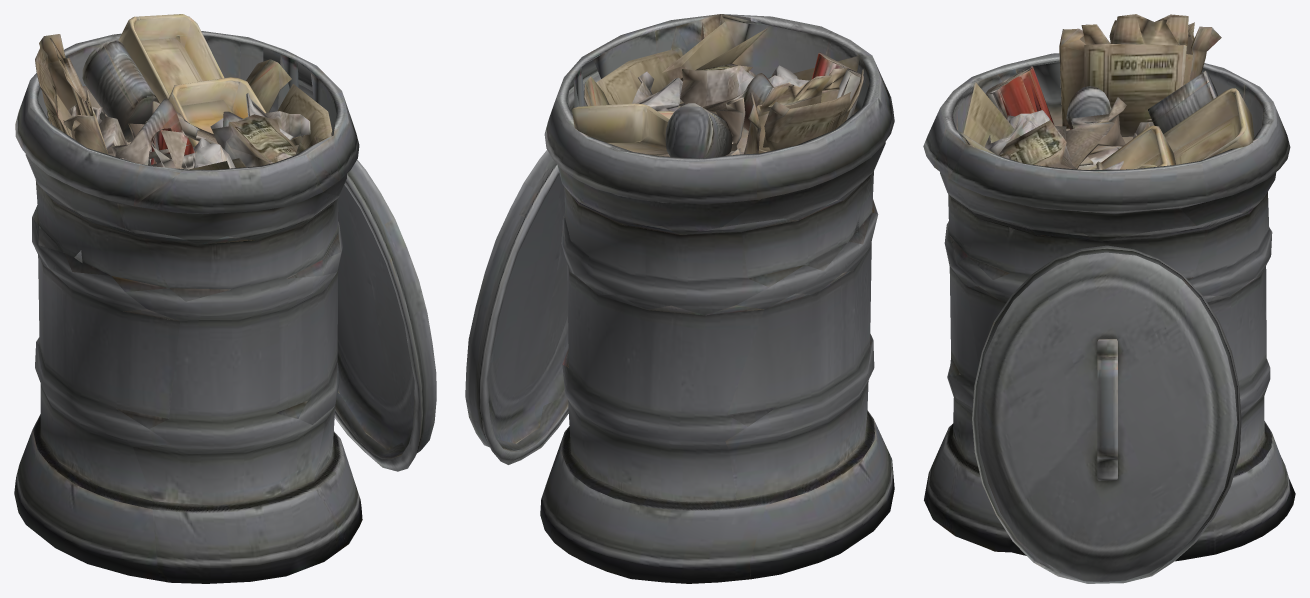
File: trash_open.glb
3 renders of one model, left to right at view 1: azimuth 30°, elevation 25°; view 2: azimuth 150°, elevation 25°; view 3: azimuth 270°, elevation 25°, orthographic. The views are drawn at different scales.
Parts seen in each view (by area): view 1: trash_open; view 2: trash_open; view 3: trash_open.
Part boxes in pixels (box(x1,y1,x2,y2)): trash_open: box(14, 14, 436, 583); trash_open: box(465, 14, 894, 583); trash_open: box(923, 14, 1295, 583).
Bounding box in the file's own units: 0.7822 × 0.9755 × 0.7494.
1 material, 1 textured.
